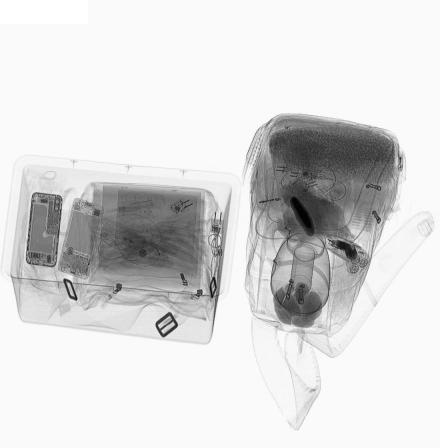Lighter: (326, 238, 356, 256)
